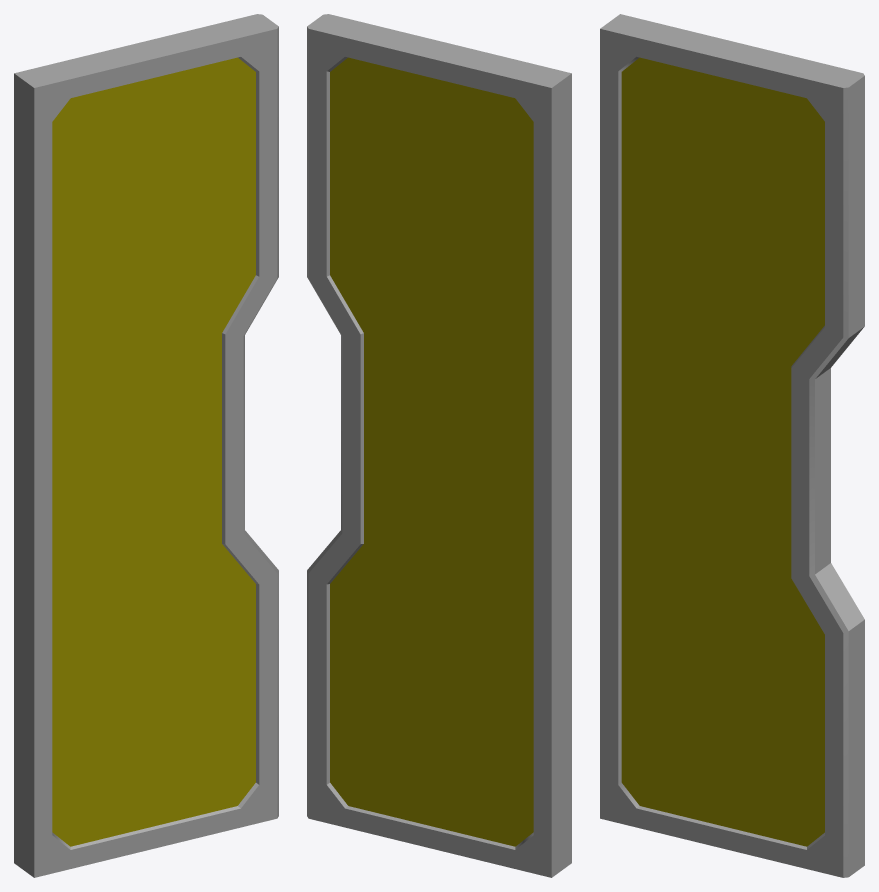
The model's file is SM_Door_02_Glass_F.fbx.
The picture shows the model from 3 angles, left to right: view 1: azimuth 30°, elevation 25°; view 2: azimuth 150°, elevation 25°; view 3: azimuth 330°, elevation 25°; orthographic projection.
Parts seen in each view (by area): view 1: polySurface4181; view 2: polySurface4181; view 3: polySurface4181.
Boxes of the visible parts, <box> form: polySurface4181: <box>14,14,278,877</box>; polySurface4181: <box>307,14,571,877</box>; polySurface4181: <box>600,14,864,877</box>.
Bounding box in the file's own units: 81.21 × 249 × 11.5.
